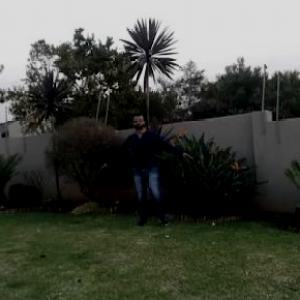land: (95, 94, 218, 245)
